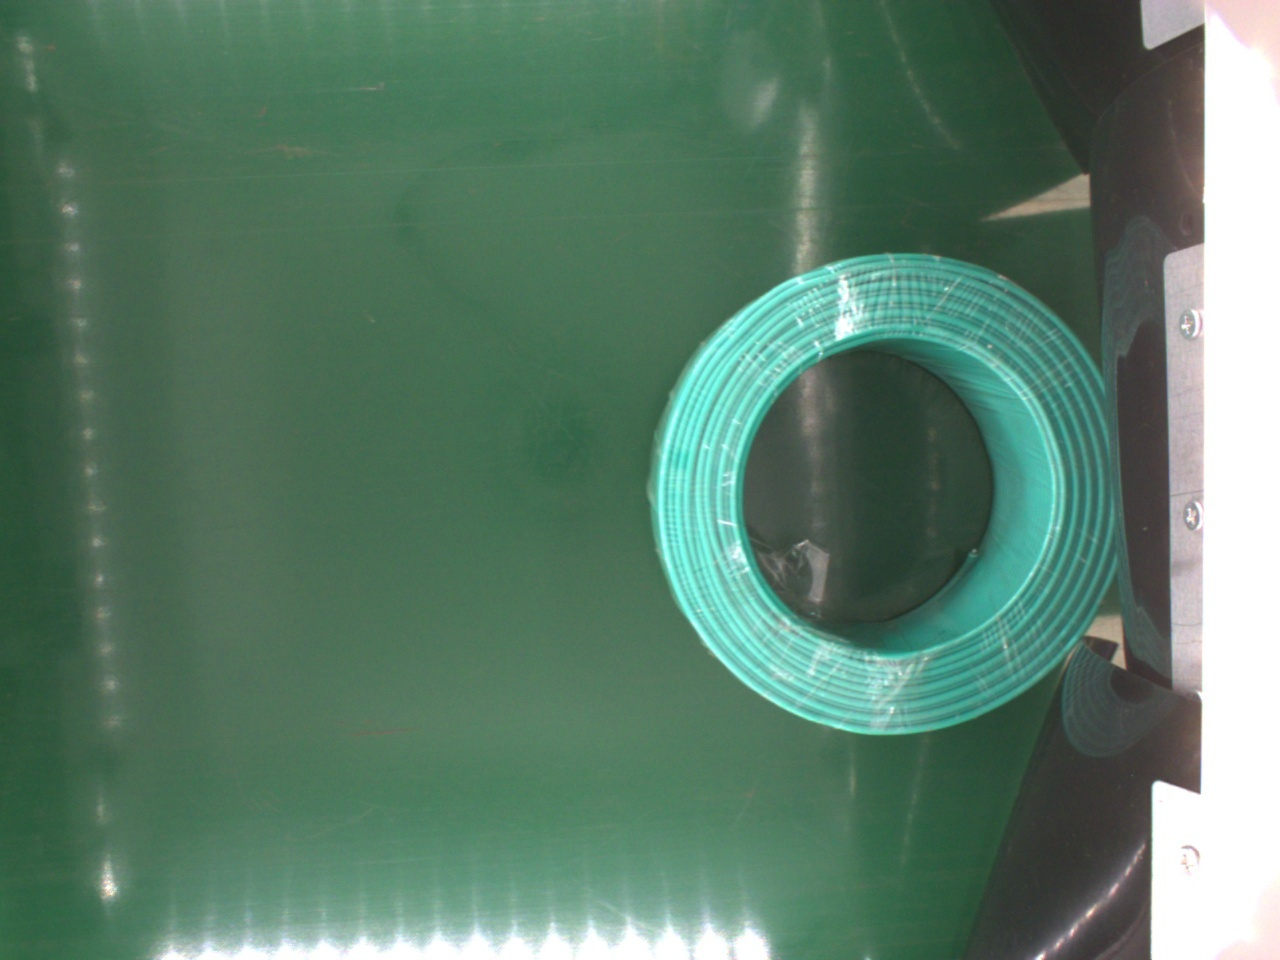green: (647, 253, 1120, 736)
